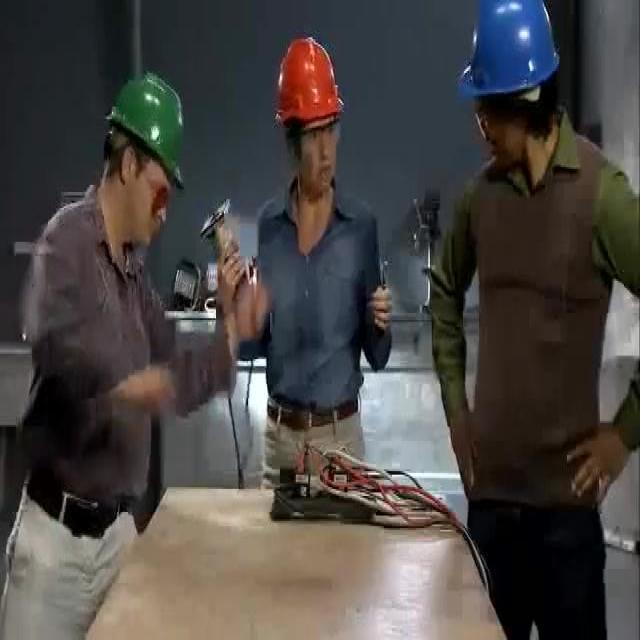reflective_jacket: (430, 135, 637, 522)
safety_helmet: (452, 1, 568, 115), (100, 62, 197, 197), (268, 28, 348, 135)
